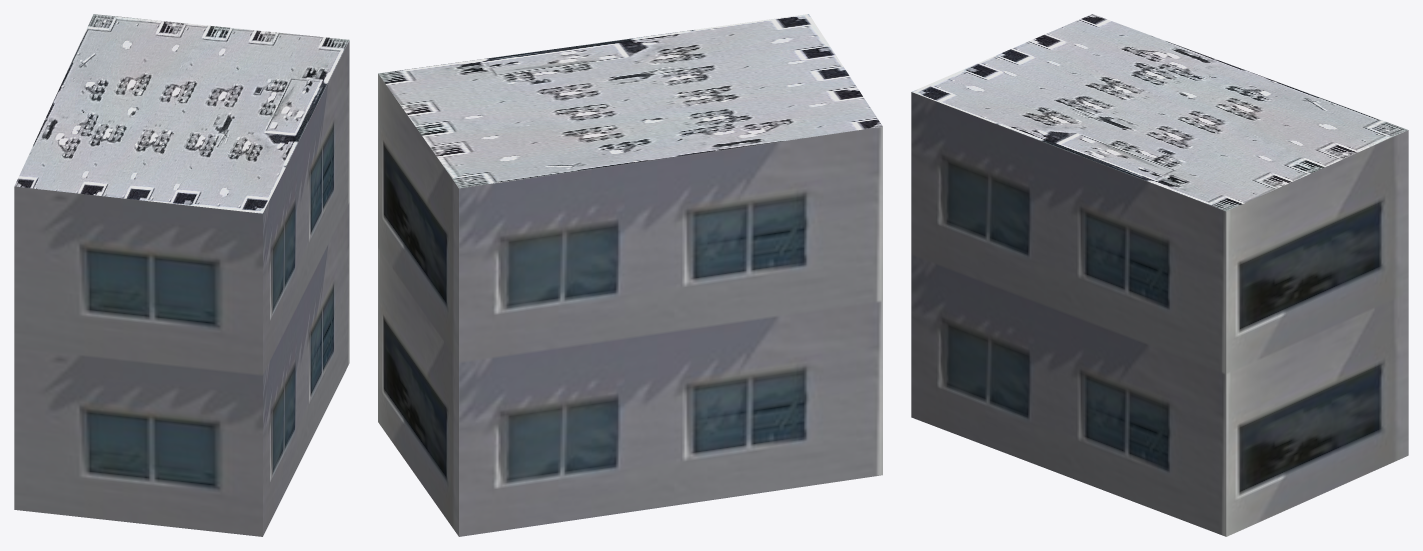
Rendered from ResTex__2527.fbx.
The picture shows the model from 3 angles, left to right: view 1: azimuth 30°, elevation 25°; view 2: azimuth 150°, elevation 25°; view 3: azimuth 270°, elevation 25°; orthographic projection. The views are drawn at different scales.
Visible parts, largest first — view 1: CityEngineMaterial_10_m, CityEngineMaterial_m; view 2: CityEngineMaterial_10_m, CityEngineMaterial_m; view 3: CityEngineMaterial_10_m, CityEngineMaterial_m.
Boxes of the visible parts, x1,y1,x2,y2 form: CityEngineMaterial_10_m: [14, 40, 349, 536]; CityEngineMaterial_m: [14, 14, 349, 213]; CityEngineMaterial_10_m: [378, 74, 882, 536]; CityEngineMaterial_m: [378, 14, 882, 188]; CityEngineMaterial_10_m: [911, 92, 1408, 536]; CityEngineMaterial_m: [912, 14, 1407, 211].
Size of the model in its own units: 7.8 by 6 by 8.31.
2 materials, 2 textured.
